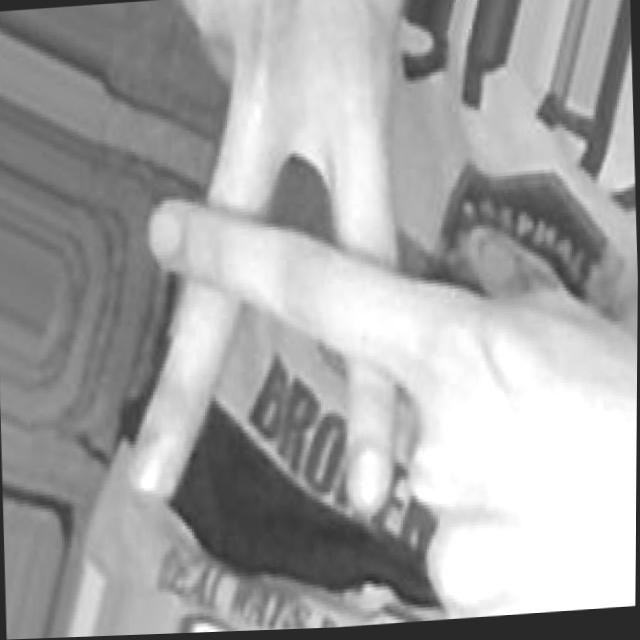A: (109, 0, 640, 636)
